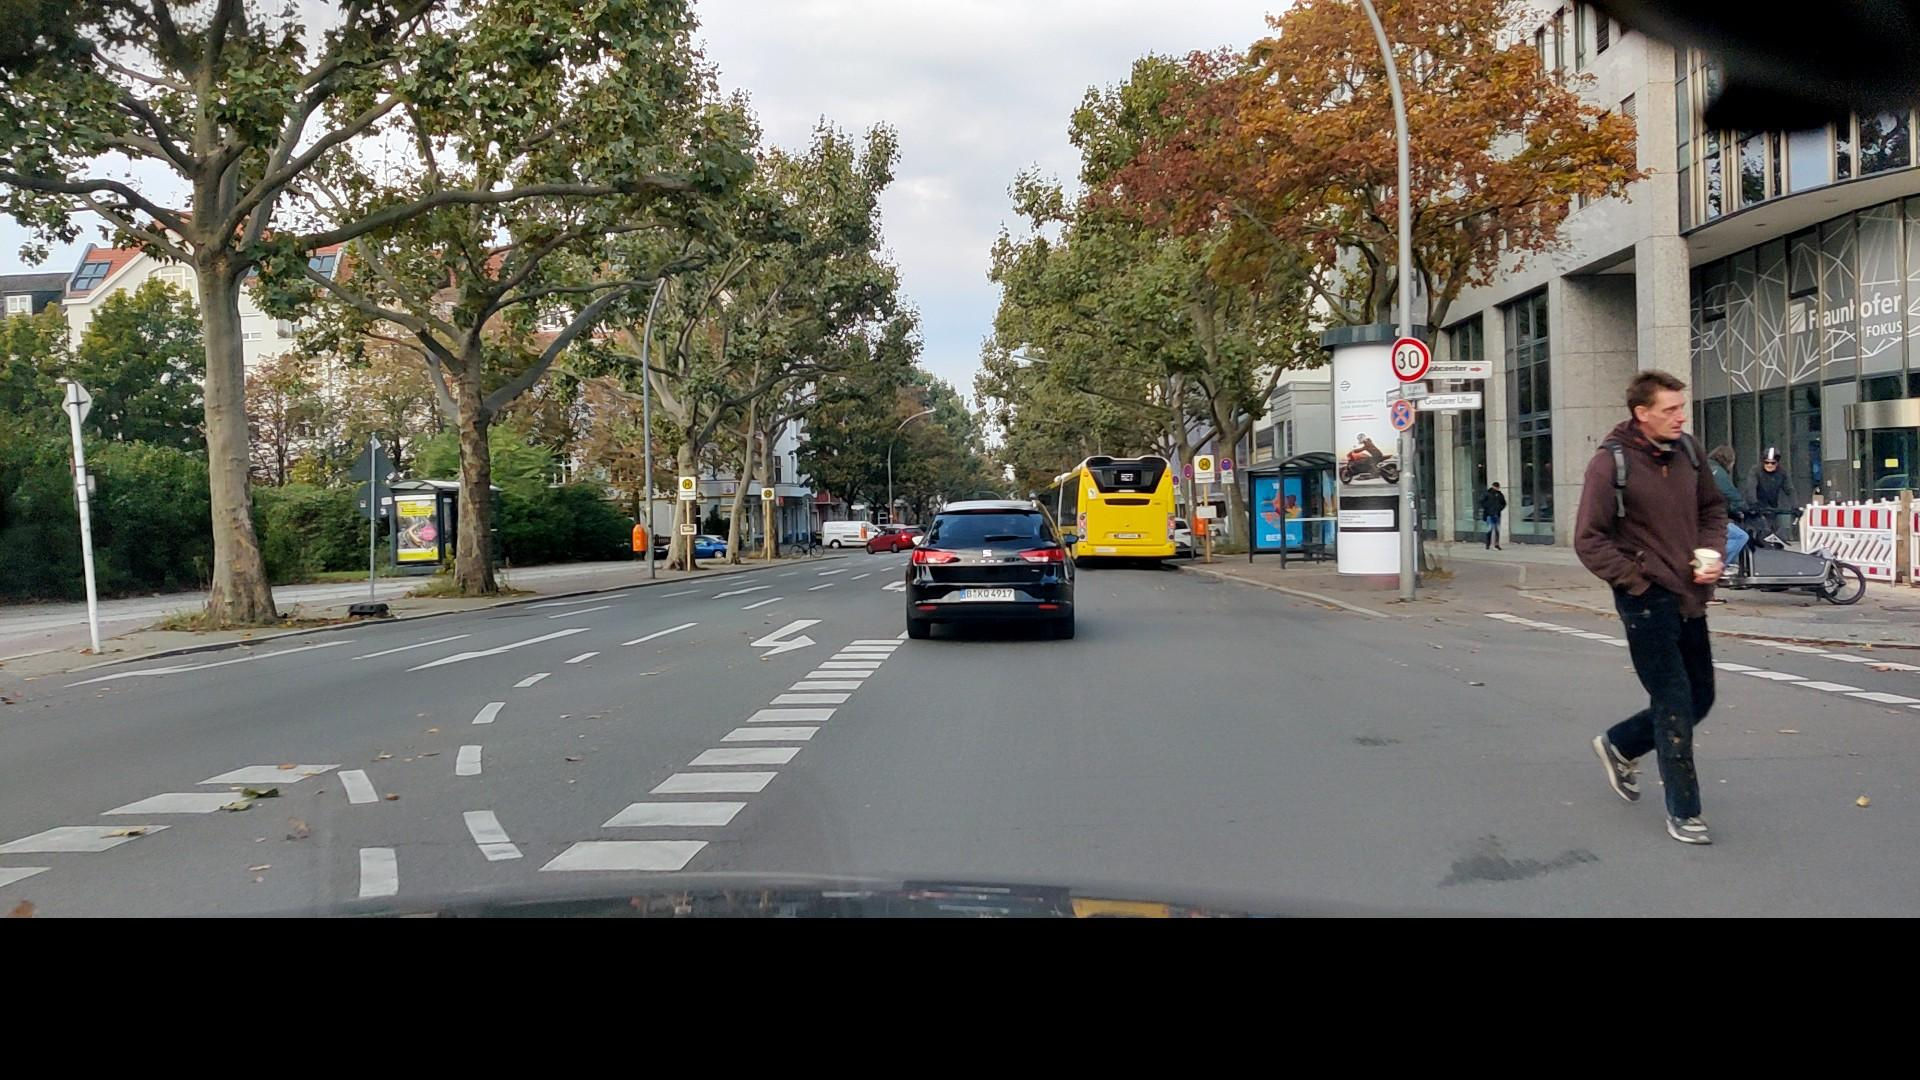Human face: (1629, 378, 1688, 443), (1758, 444, 1783, 476), (1490, 481, 1500, 492)
Vehicle registration plate: (959, 588, 1014, 602), (1116, 533, 1140, 539)
